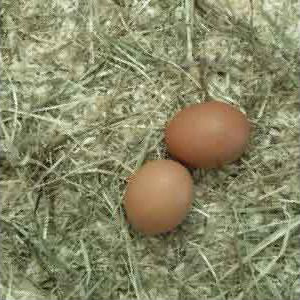egg: (166, 103, 250, 169), (125, 160, 193, 234)
